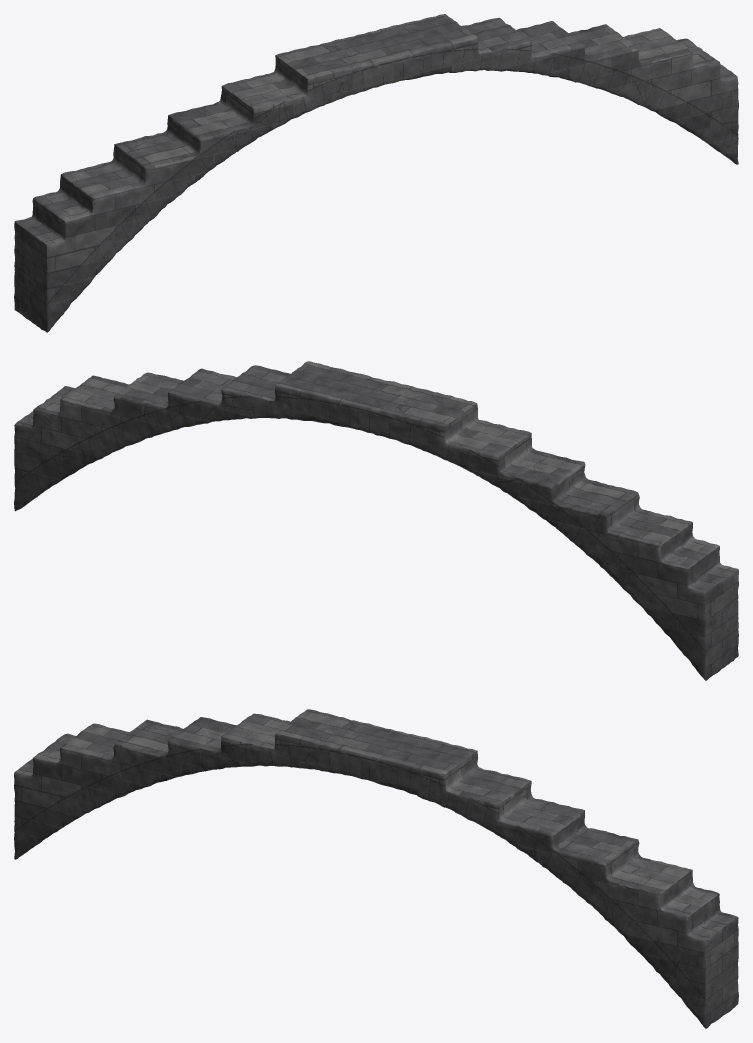
File: ponte.glb
The picture shows the model from 3 angles, top to bottom: view 1: azimuth 30°, elevation 25°; view 2: azimuth 150°, elevation 25°; view 3: azimuth 330°, elevation 25°; orthographic projection.
Parts seen in each view (by area): view 1: Ponte; view 2: Ponte; view 3: Ponte.
Boxes of the visible parts, left/top/right/bottom form: Ponte: left=14, top=14, right=738, bottom=332; Ponte: left=14, top=361, right=738, bottom=680; Ponte: left=14, top=709, right=738, bottom=1028.
Bounding box in the file's own units: 14.82 × 3.93 × 1.27.
1 material, 1 textured.
